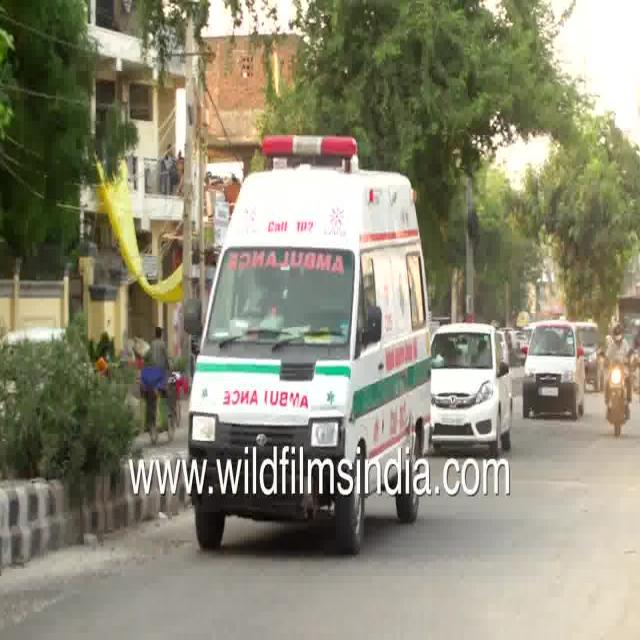ambulance: (185, 125, 434, 443)
